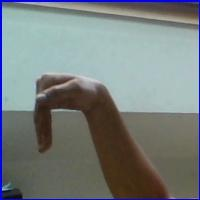del: (25, 69, 114, 160)
